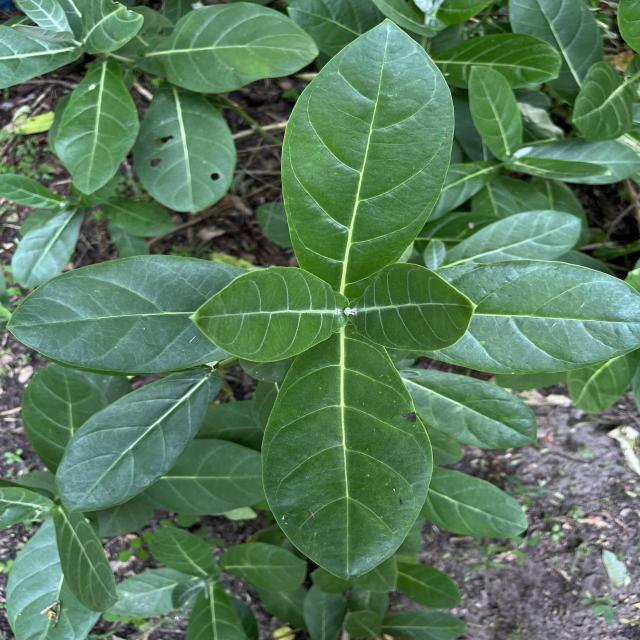Calotropis gigantea: (274, 16, 458, 277), (258, 332, 437, 584), (5, 252, 214, 375), (53, 366, 224, 514), (460, 258, 640, 376), (138, 2, 320, 95), (188, 264, 350, 364), (133, 80, 239, 214), (52, 54, 142, 196), (348, 261, 480, 353), (398, 367, 540, 450), (426, 466, 530, 541), (466, 64, 524, 158)
